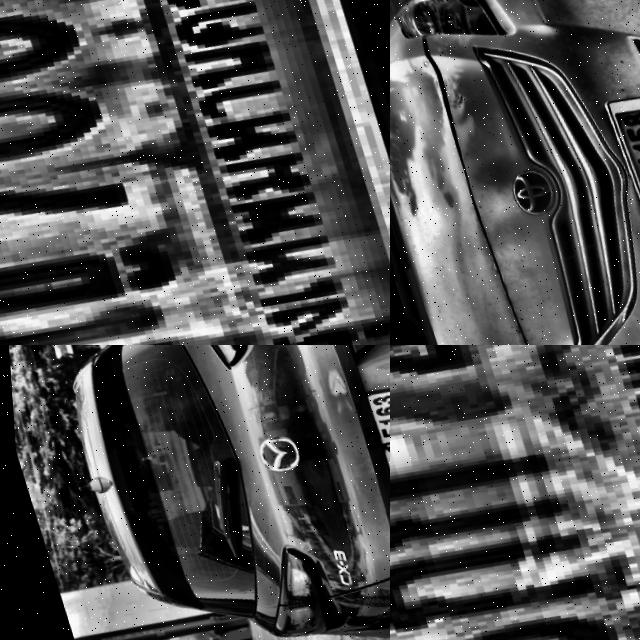license-plate: (0, 0, 390, 345), (390, 345, 640, 640), (593, 69, 640, 243), (354, 365, 390, 485)
